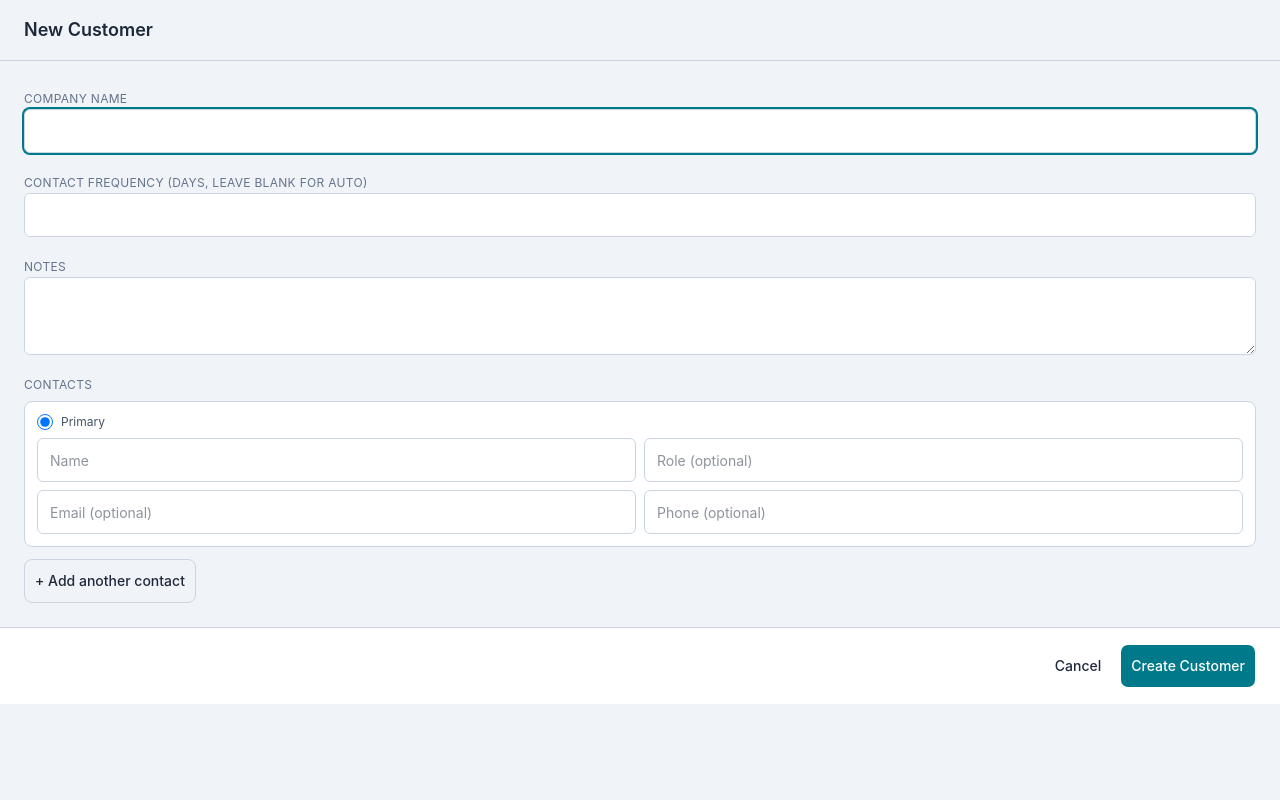
Test case: CustomerForm › blocks submit and surfaces the company name error when empty
The image size is (1280, 800).
Click the button "Create Customer": point(1188, 666) [1120,644,1256,688]
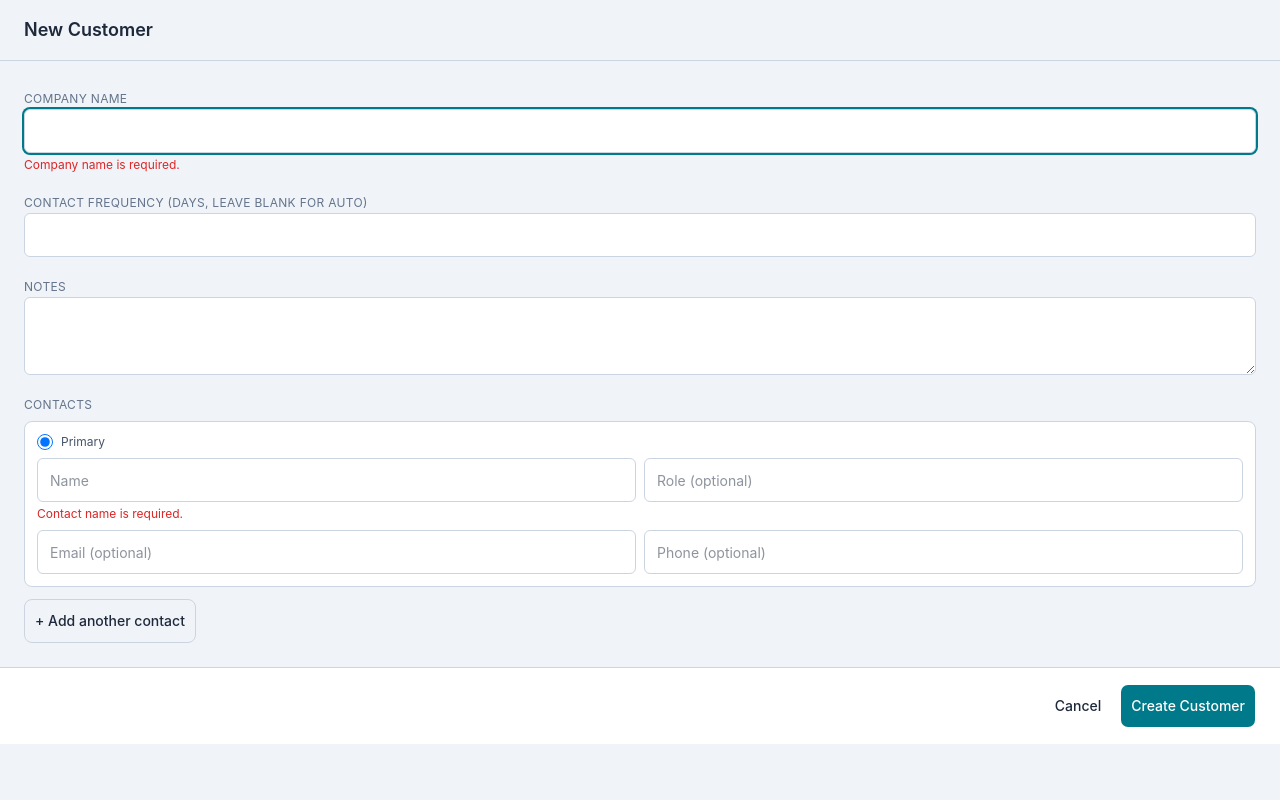
Result: the text "Company name is required." is shown at [24,157,180,172]
